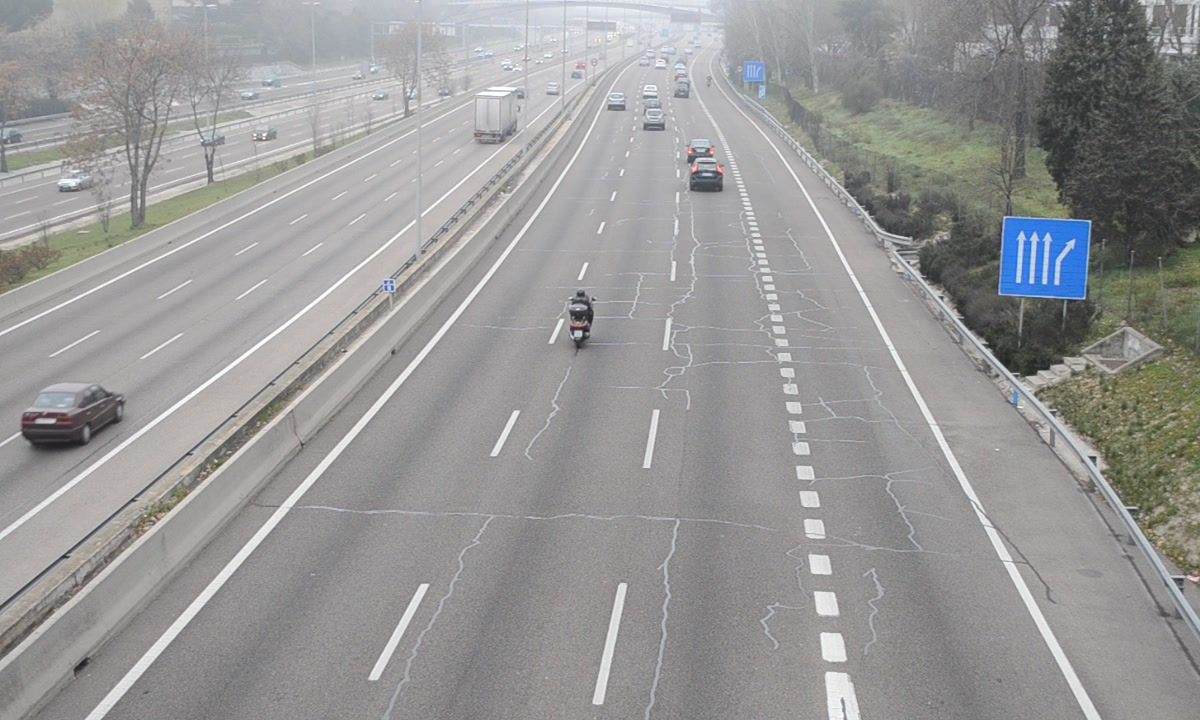car: (689, 158, 725, 189), (687, 139, 715, 160)
motorcycle: (565, 287, 595, 351)
